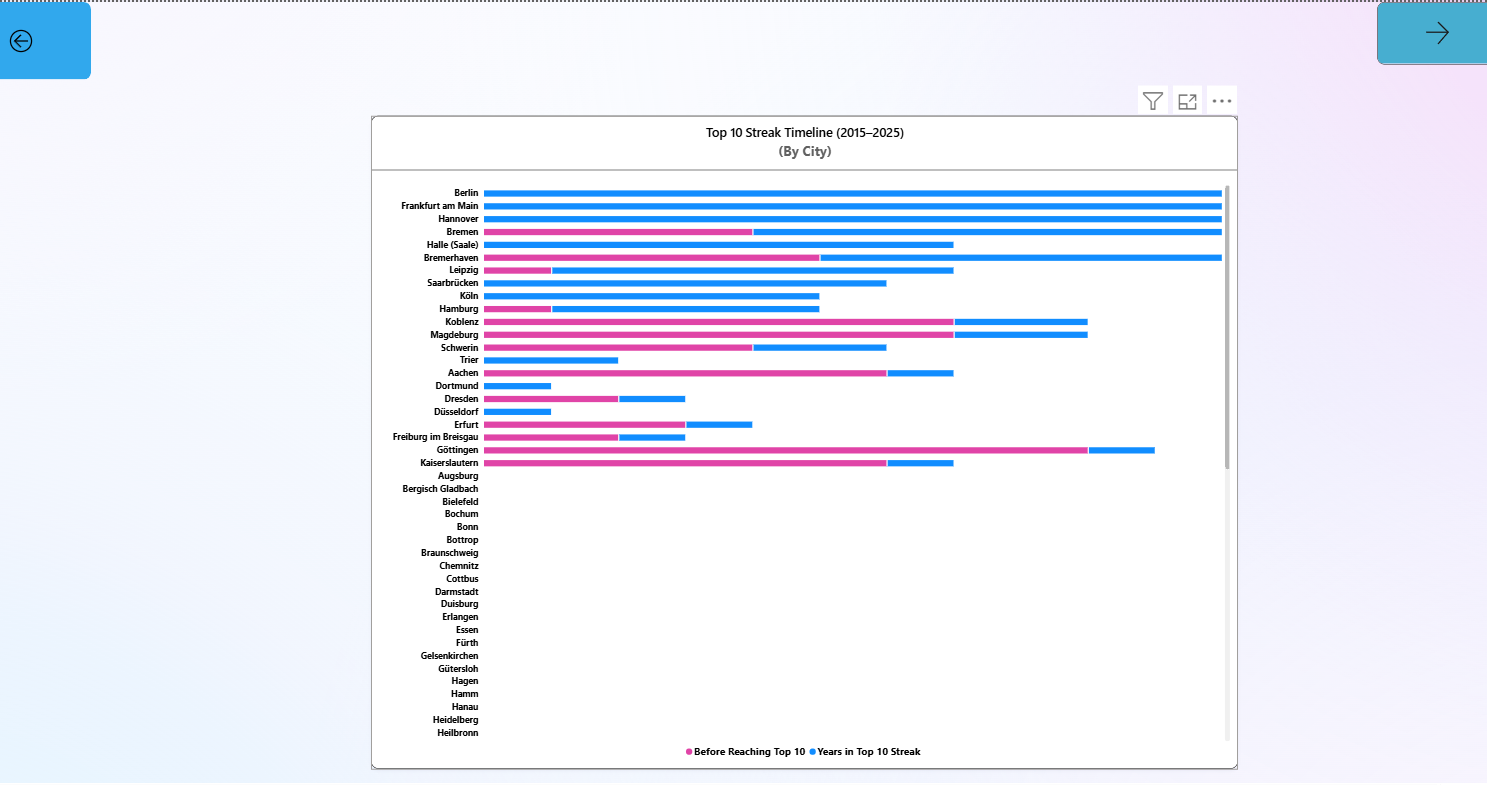

The dashboard page shown, as its layout file describes it:
{"tool":"powerbi","page":{"name":"Longest Streak by Years","canvas":[2560,1440],"ordinal":4},"visuals":[{"type":"actionButton","box":[0,0,224,124],"z":1000},{"type":"barChart","title":"Top 10 Streak Timeline (2015–2025)","fields":{"Category":["Dim_City.Stadt"],"Y":["Fact_Crime.PreStreakOffset","Fact_Crime.LongestStreak"]},"box":[536.7,136.7,1387.5,1045],"z":2000},{"type":"actionButton","box":[2282.5,0,192.5,100],"z":2001}]}

Visuals, with their boxes on the page's 2560x1440 design canvas (x1, y1, x2, y2). These are canvas units, not pixel positions in the 1487x785 screenshot, which may show the page scaled, cropped or inside an application window:
actionButton: Rect(0, 0, 224, 124)
"Top 10 Streak Timeline (2015–2025)" barChart: Rect(537, 137, 1924, 1182)
actionButton: Rect(2282, 0, 2475, 100)
